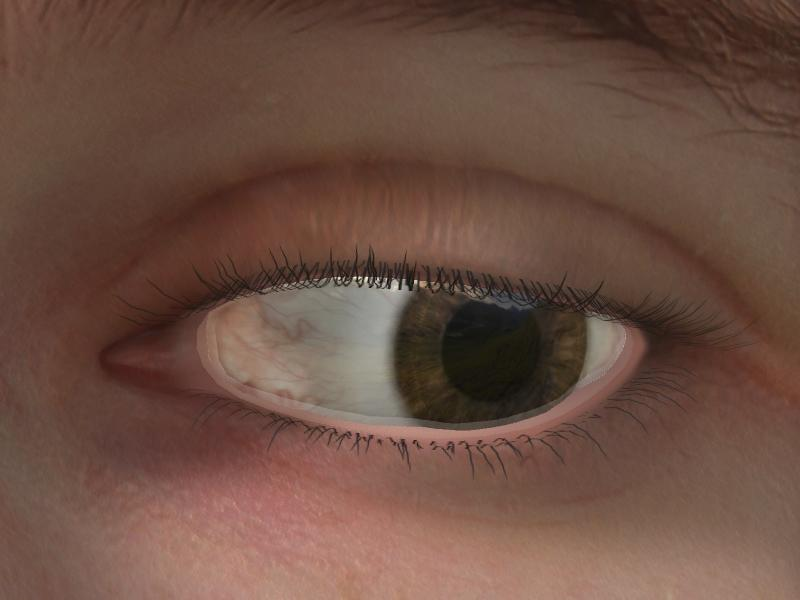eye: (403, 279, 585, 432)
